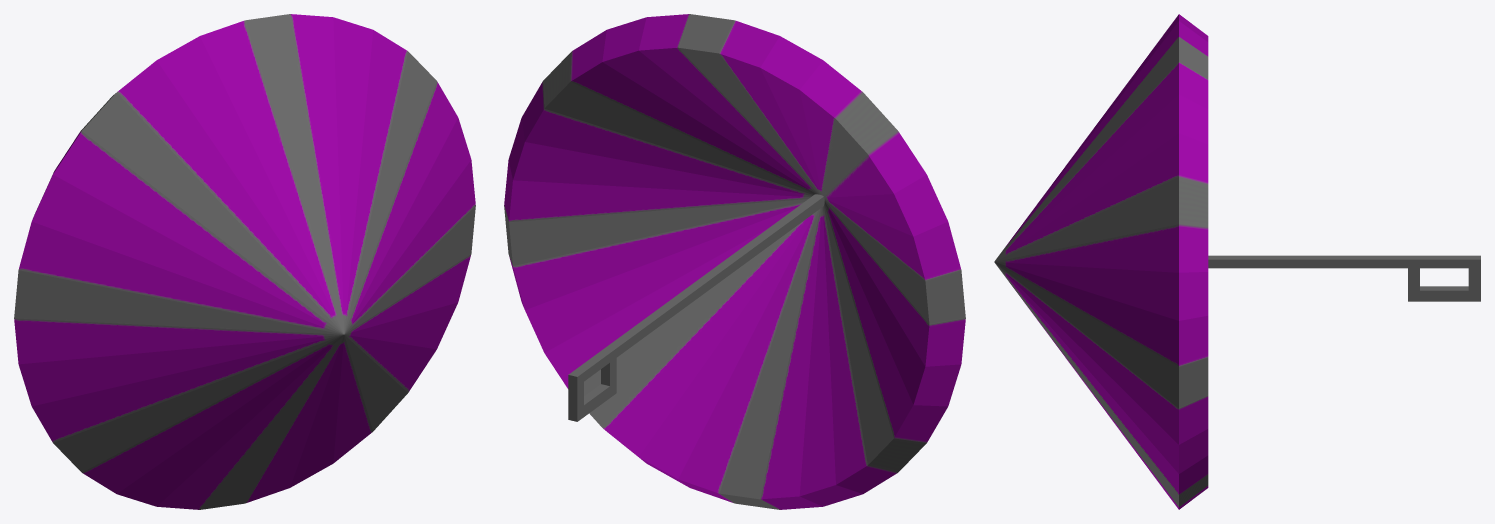
Rendered from longUmbrella_open.gltf.
3 views of the same model, side by side, from view 1: azimuth 30°, elevation 25°; view 2: azimuth 150°, elevation 25°; view 3: azimuth 270°, elevation 25° (orthographic). The views are drawn at different scales.
Parts seen in each view (by area): view 1: 円錐; view 2: 円錐, Cube; view 3: 円錐, Cube.
Boxes of the visible parts, box(x1,y1,x2,y2) form: 円錐: box(14, 14, 475, 509); 円錐: box(504, 14, 965, 509); Cube: box(568, 194, 824, 421); 円錐: box(994, 14, 1208, 509); Cube: box(1208, 255, 1480, 301).
Bounding box in the file's own units: 2.04 × 2.04 × 2.
